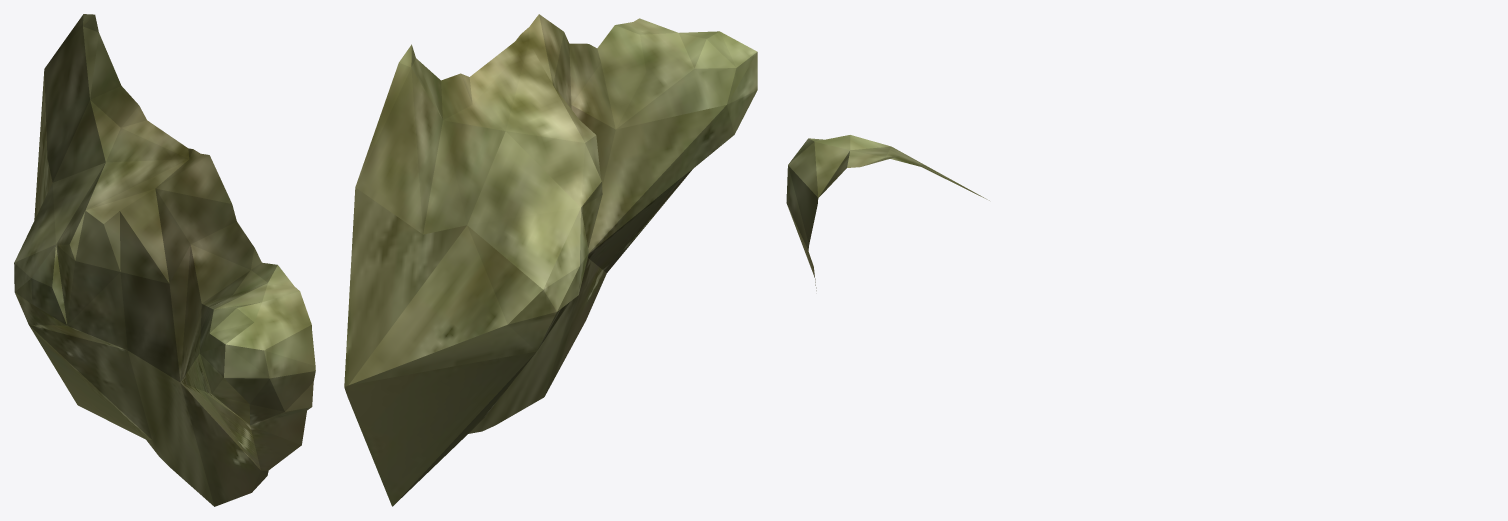
The picture shows the model from 3 angles, left to right: view 1: azimuth 30°, elevation 25°; view 2: azimuth 150°, elevation 25°; view 3: azimuth 270°, elevation 25°; orthographic projection. The views are drawn at different scales.
Bounding box in the file's own units: 0.3305 × 1.19 × 1.55.
1 material, 1 textured.
